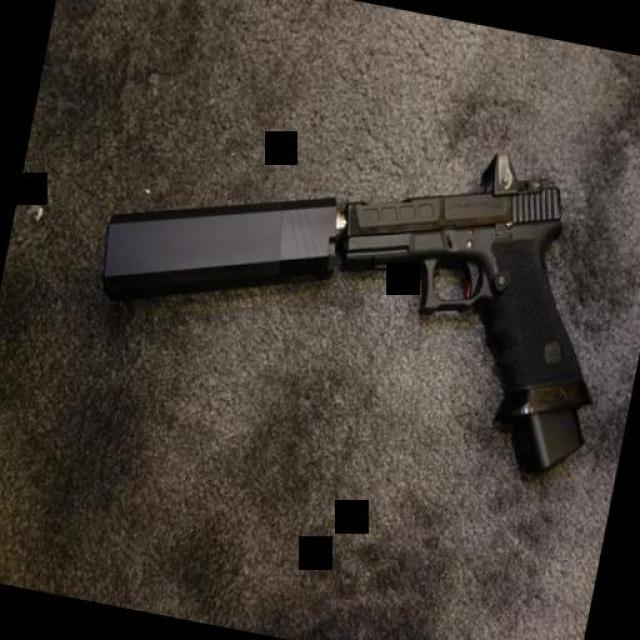gun: (300, 124, 640, 470)
